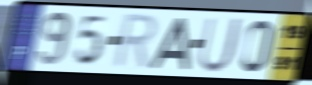0: (239, 18, 275, 75)
5: (72, 14, 111, 67)
9: (36, 10, 72, 68)
A: (148, 16, 191, 72)
R: (110, 12, 159, 72)
U: (196, 16, 245, 75)
